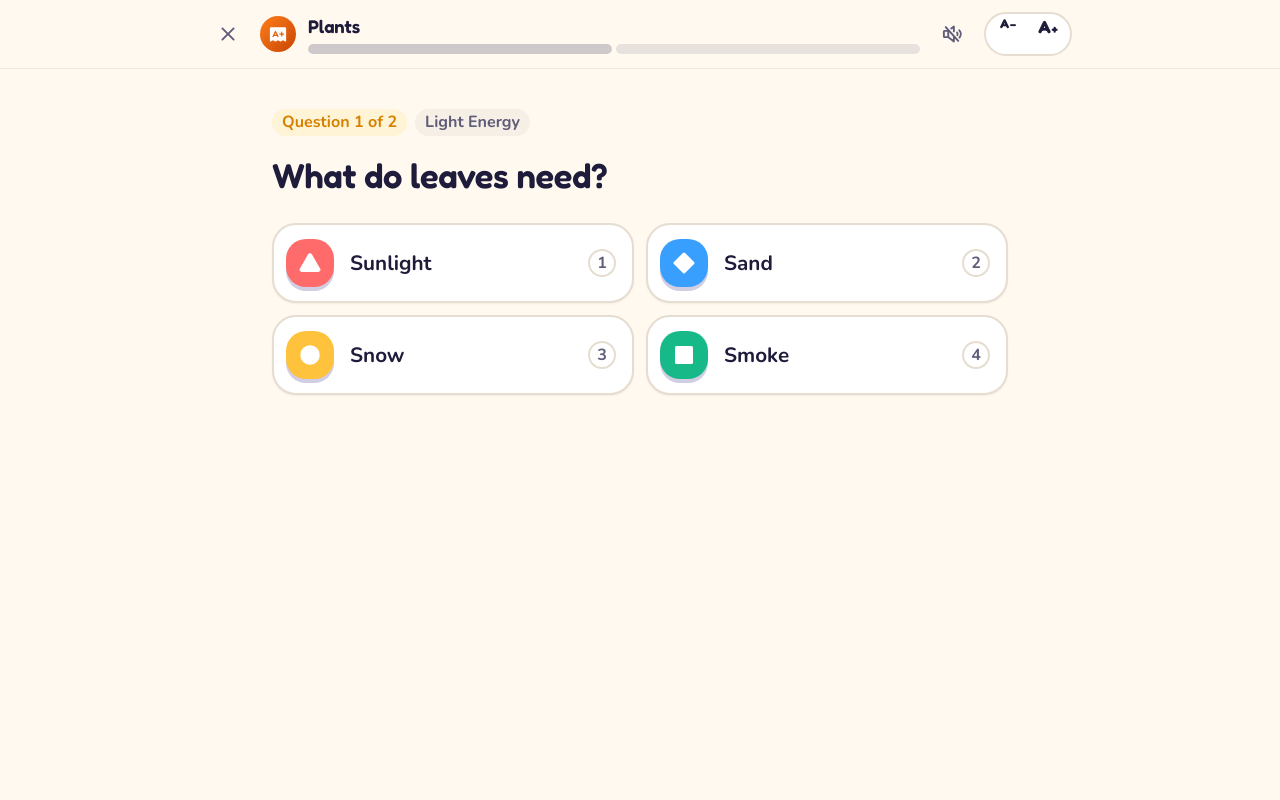
Test: second chance (§28.3.7) › is not offered when the teacher set a test
The width and height of the screenshot is (1280, 800).
Click the button "Snow 3" at (310, 355), box [272,315,634,395]
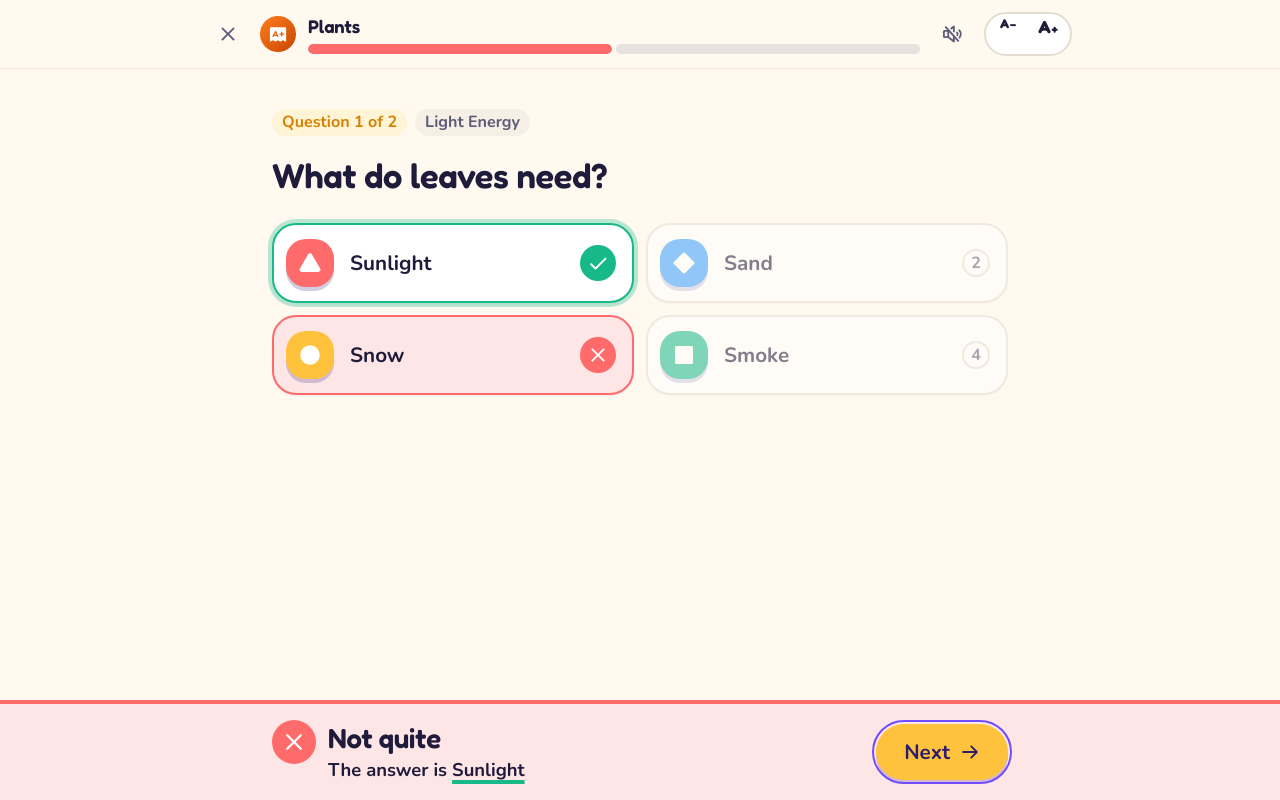
Now the text "Not quite" is shown, box [328,721,441,755]
